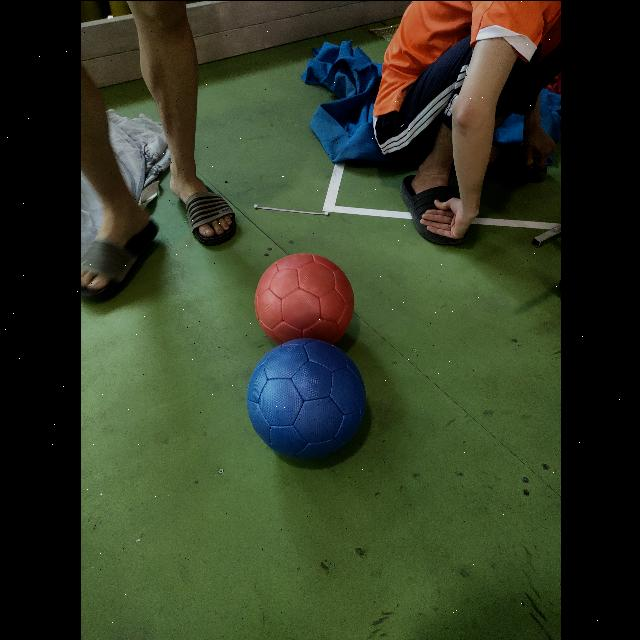B: (246, 338, 365, 458)
R: (254, 252, 352, 342)
